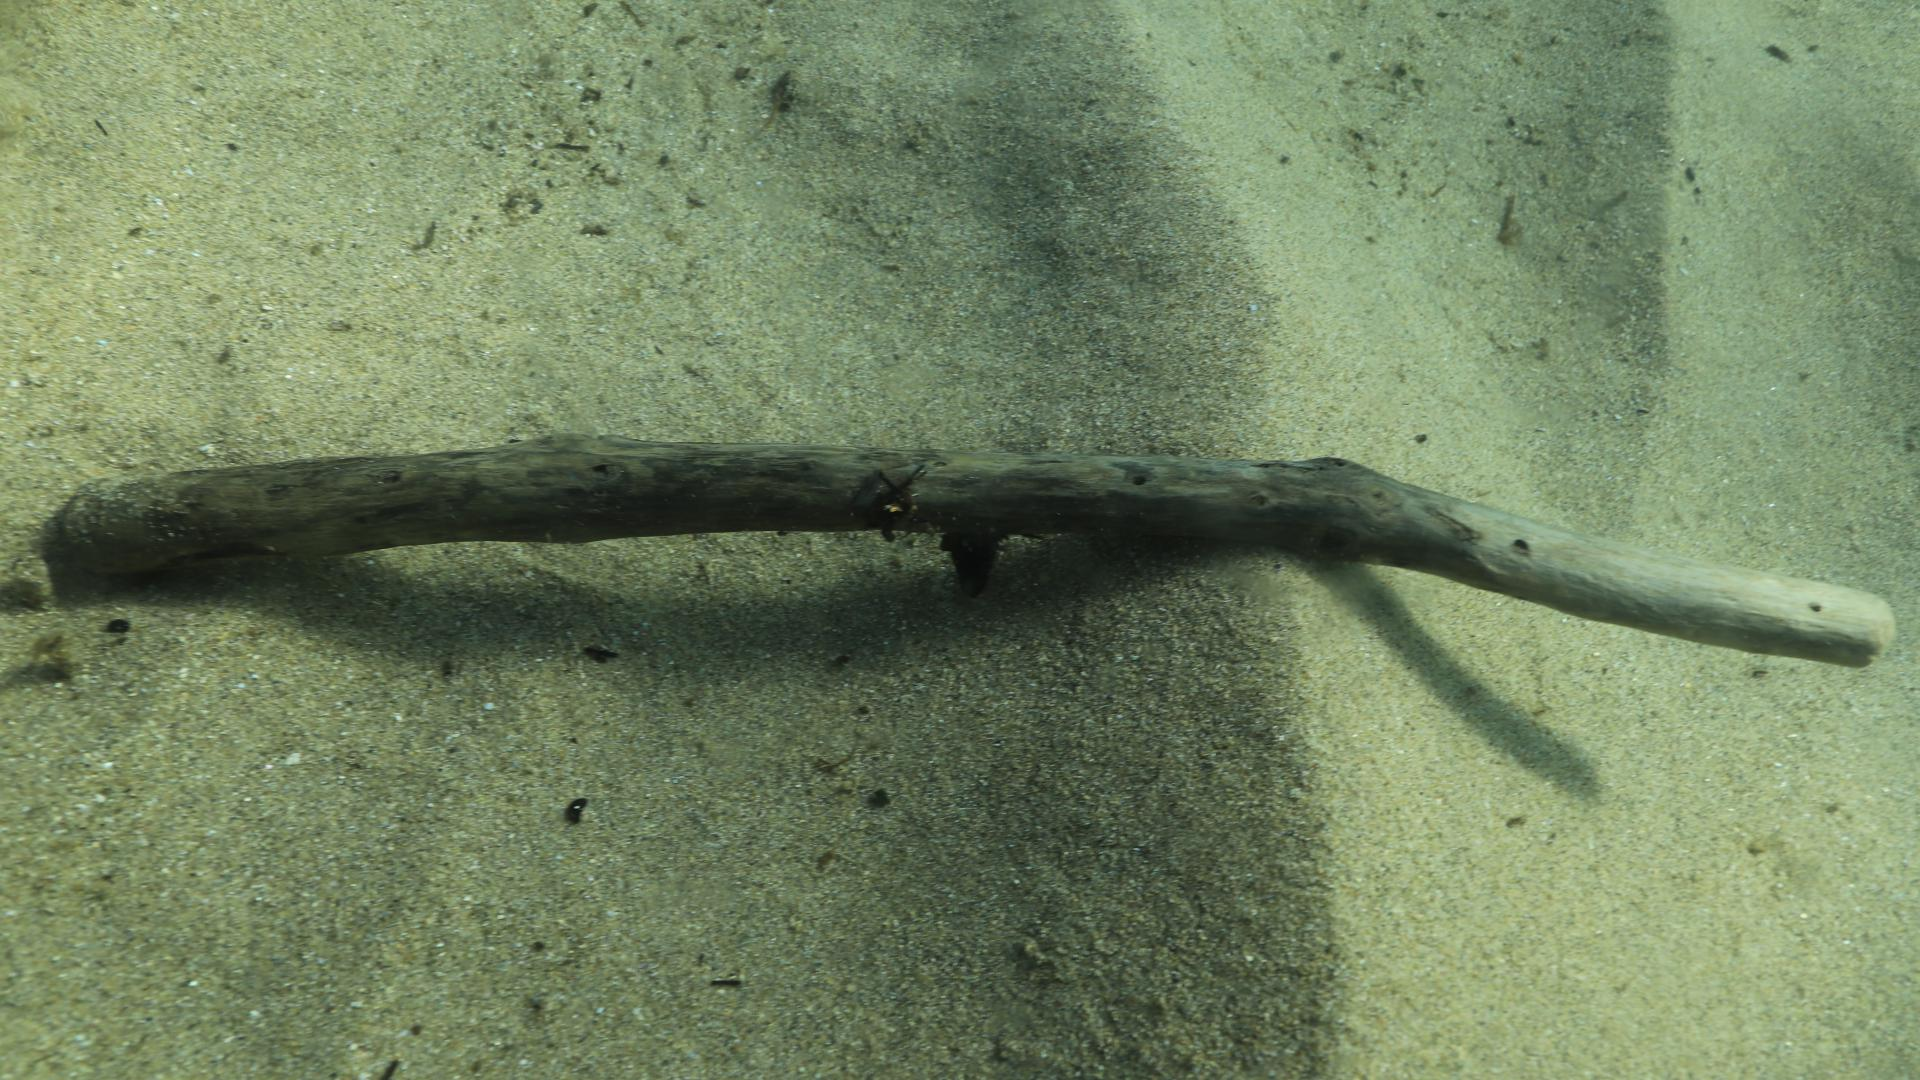wood: (45, 430, 1896, 673)
